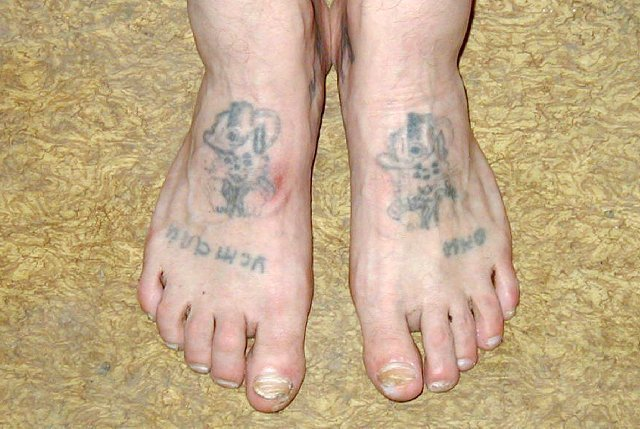tatu3_bukva: (156, 226, 277, 278), (443, 227, 486, 258)
tatu8_kot: (373, 109, 470, 230), (200, 100, 286, 224)
